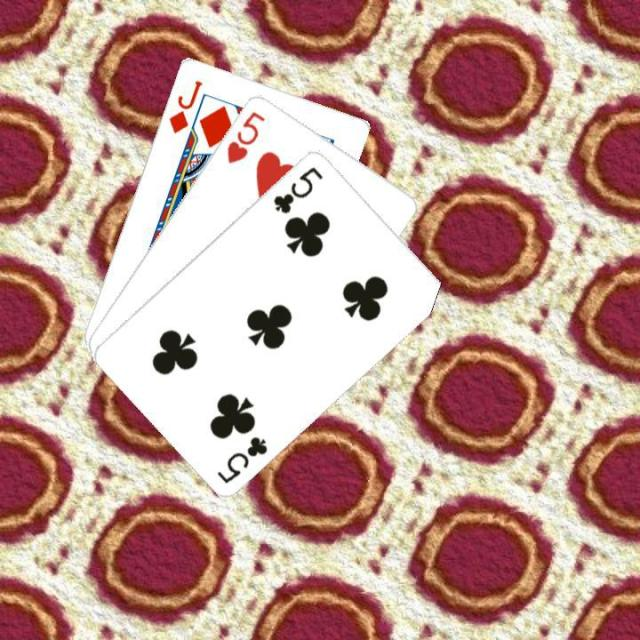5C: (268, 162, 324, 215), (213, 432, 270, 484)
5H: (222, 107, 268, 165)
JD: (164, 76, 204, 135)
